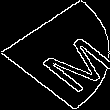M_NW: (7, 21, 103, 89)
